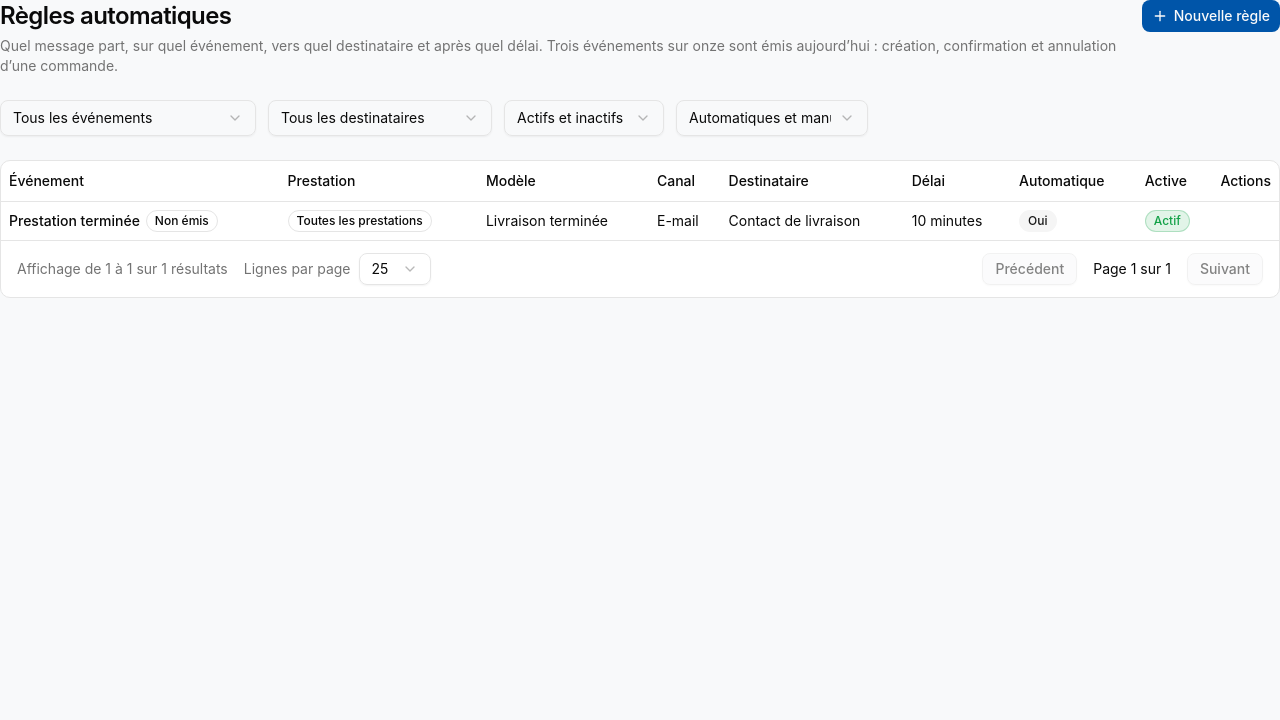
Test: création d’une règle › ne propose pas un destinataire impossible à résoudre
The image size is (1280, 720).
Click the button "Nouvelle règle" at (1211, 16), box [1142,0,1279,32]
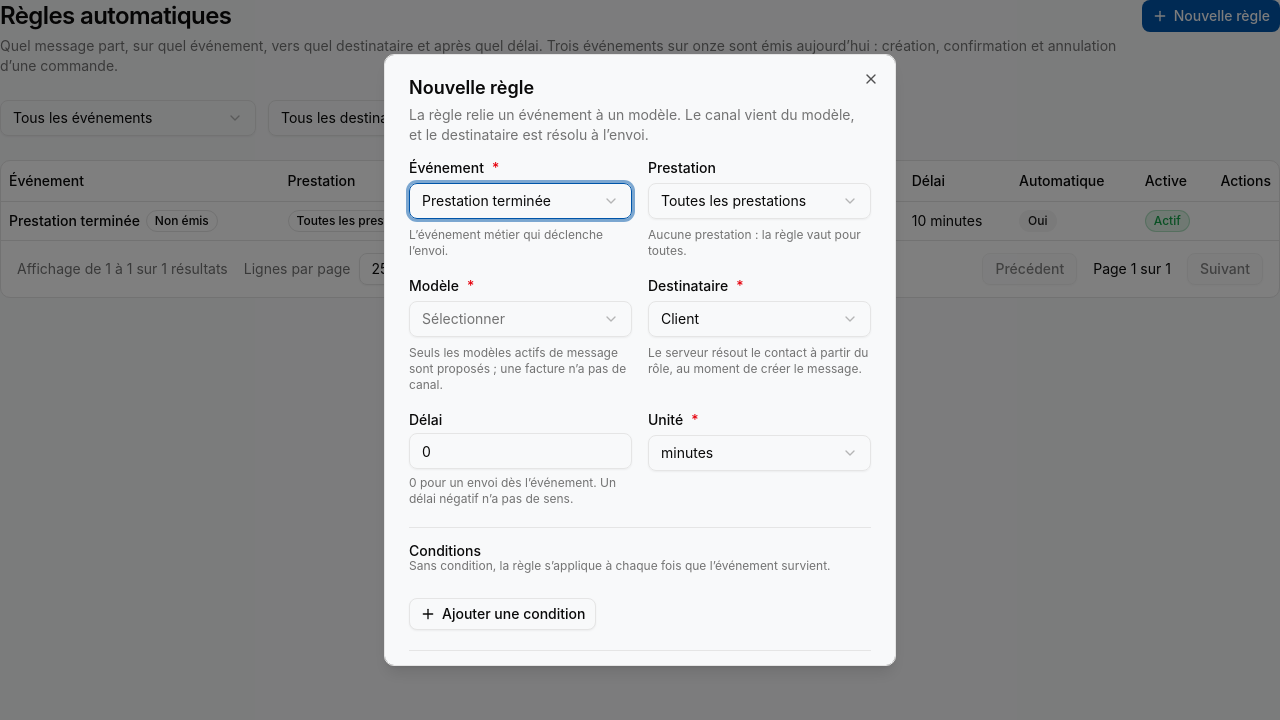
Click the dropdown named "Destinataire" at (760, 319), box [648,301,871,337]
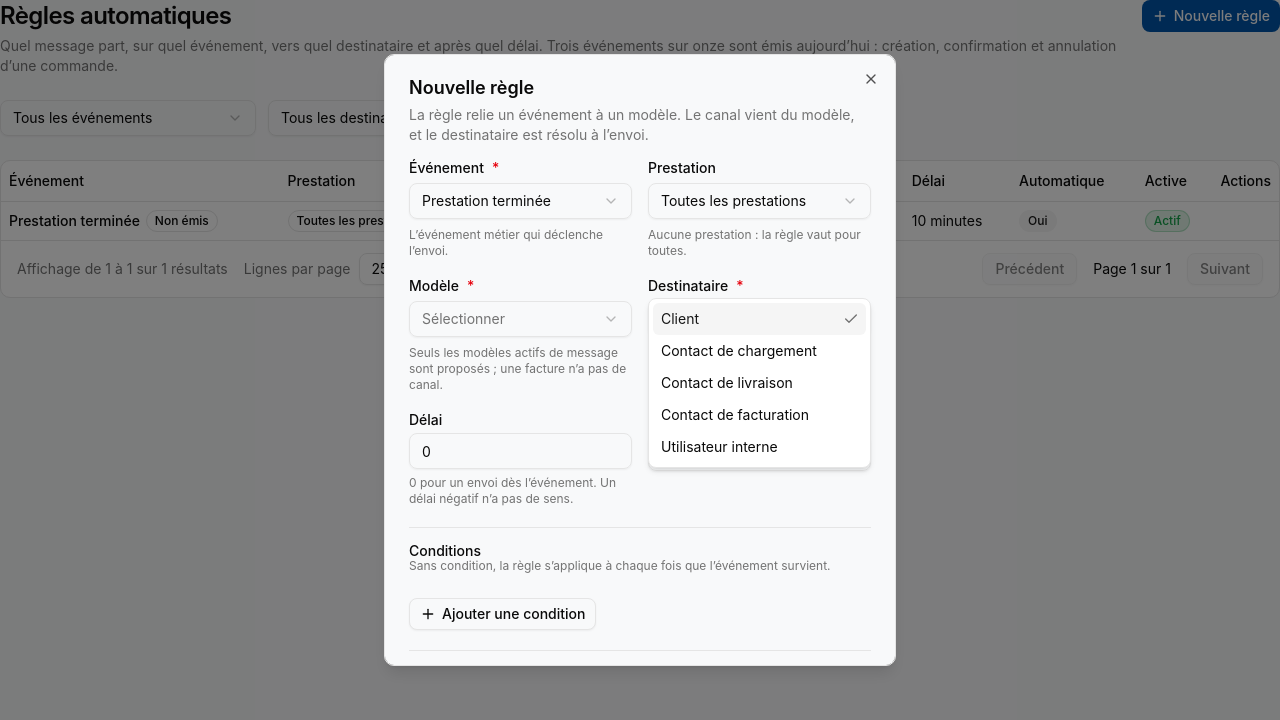
Check: the option "Client" is shown, box [653,303,866,335]
